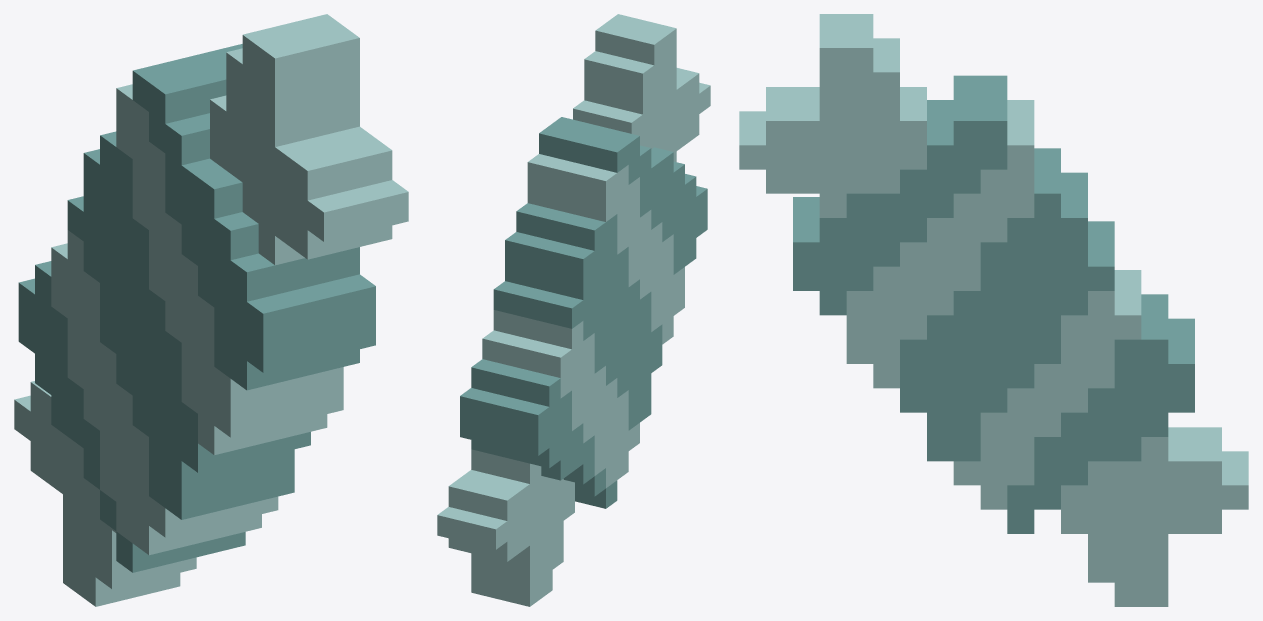
Rendered from Eruption-17.obj.
The picture shows the model from 3 angles, left to right: view 1: azimuth 30°, elevation 25°; view 2: azimuth 150°, elevation 25°; view 3: azimuth 270°, elevation 25°; orthographic projection. The views are drawn at different scales.
Bounding box in the file's own units: 0.4 × 2.3 × 1.9.
1 material, 1 textured.
